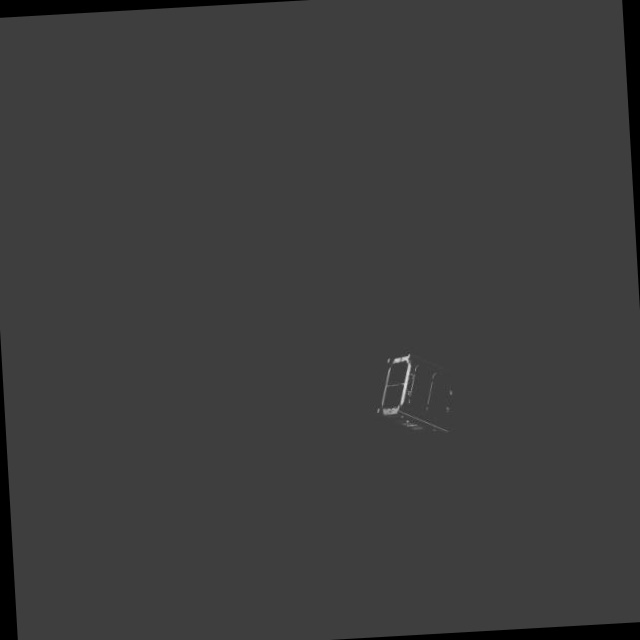satellite: (373, 350, 468, 447)
